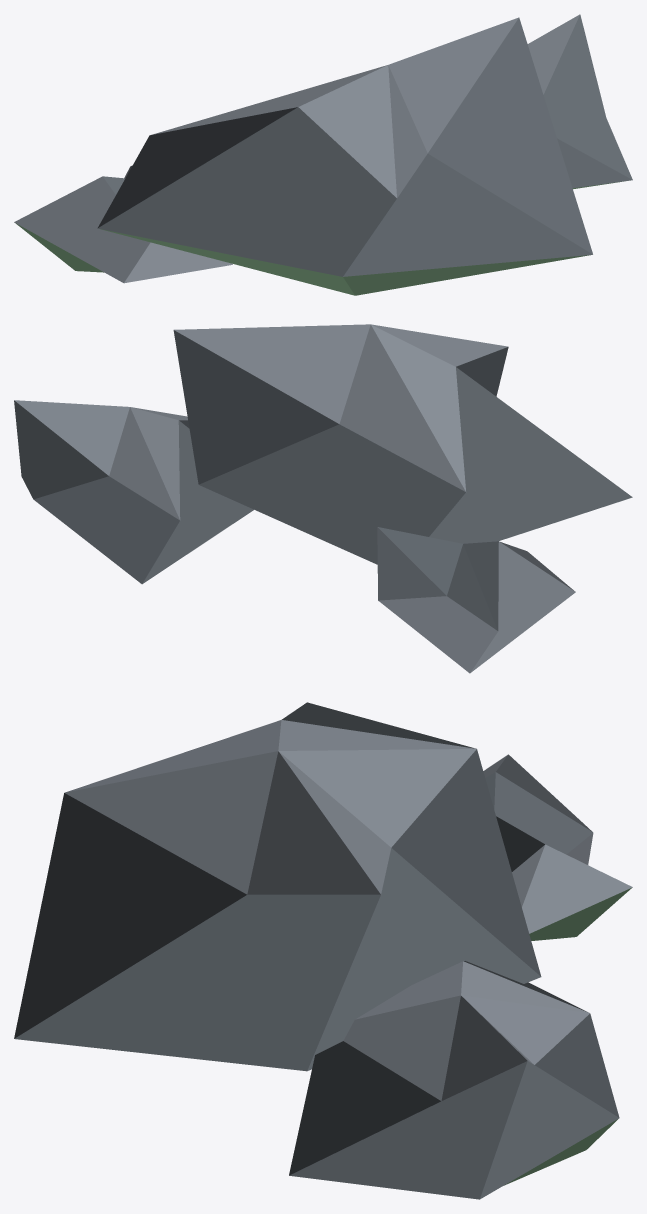
Rendered from resource_stone.glb.
3 views of the same model, one above another, from view 1: azimuth 30°, elevation 25°; view 2: azimuth 150°, elevation 25°; view 3: azimuth 270°, elevation 25° (orthographic). The views are drawn at different scales.
Visible parts, largest first — view 1: Resource_Stone; view 2: Resource_Stone; view 3: Resource_Stone.
Part boxes in pixels (left/top/right/bottom): Resource_Stone: left=14, top=14, right=632, bottom=295; Resource_Stone: left=14, top=324, right=632, bottom=673; Resource_Stone: left=14, top=702, right=632, bottom=1199.
Size of the model in its own units: 0.662 by 0.253 by 0.4303.
